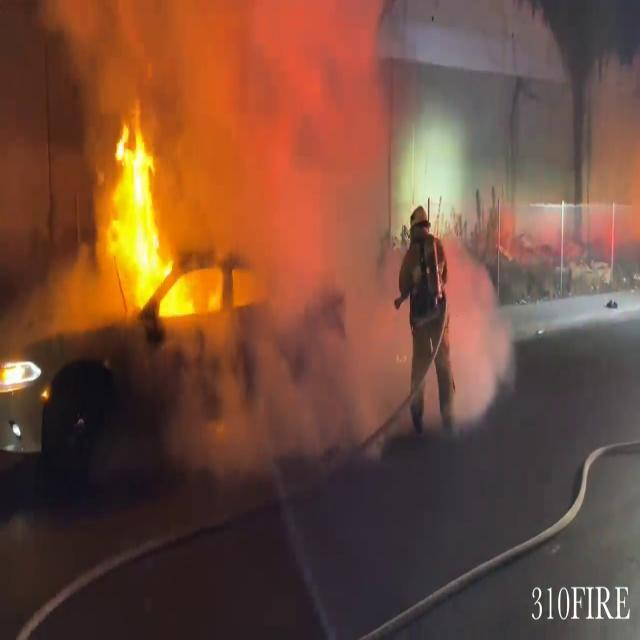Fire: (105, 110, 175, 312)
Smoke: (170, 0, 419, 462)
